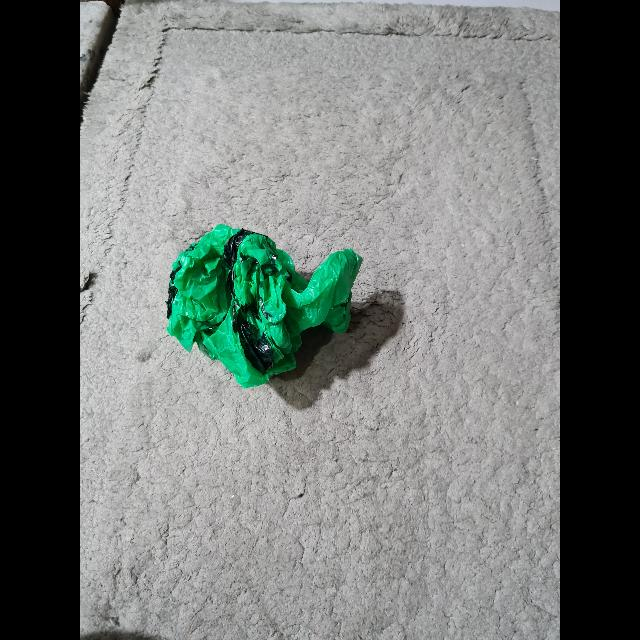plastic_bag: (162, 223, 358, 393)
